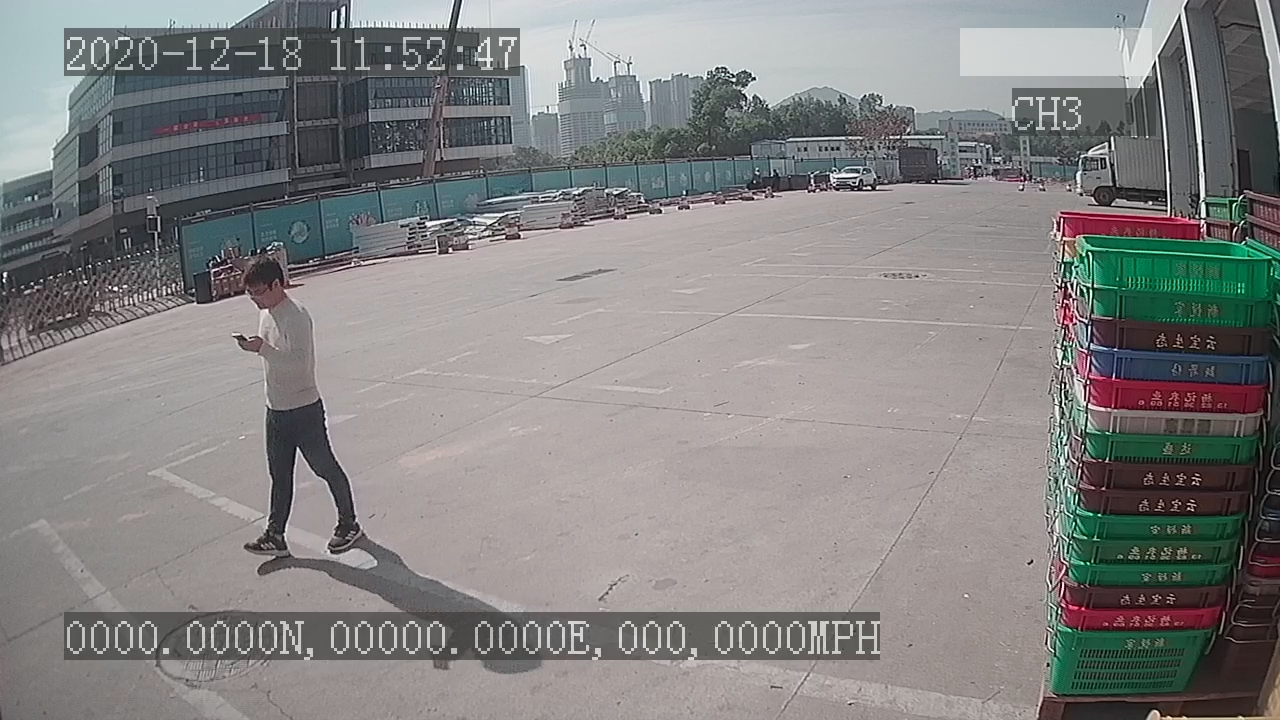person: (224, 242, 365, 569)
